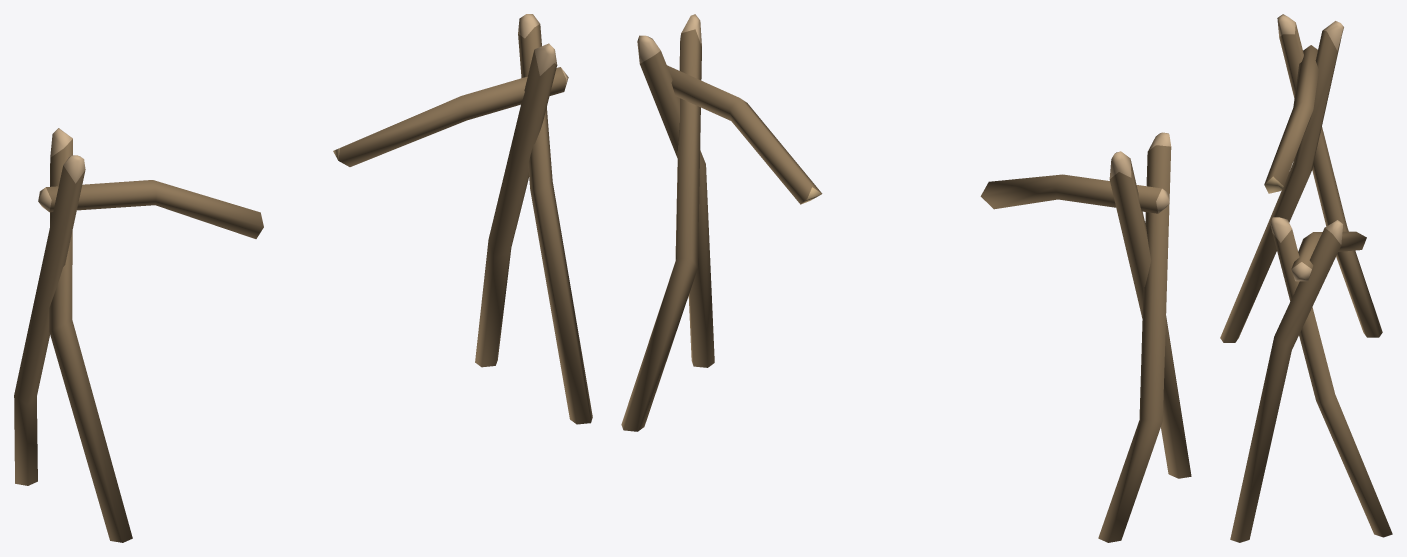
File: rpgpp_av_hanger_wood_02a.gltf
3 renders of one model, left to right at view 1: azimuth 30°, elevation 25°; view 2: azimuth 150°, elevation 25°; view 3: azimuth 270°, elevation 25°, orthographic. The views are drawn at different scales.
Visible parts, largest first — view 1: rpgpp_av_hanger_wood_02a; view 2: rpgpp_av_hanger_wood_02a; view 3: rpgpp_av_hanger_wood_02a.
Part boxes in pixels (x1=…): rpgpp_av_hanger_wood_02a: x1=14, y1=14, x2=592, y2=542; rpgpp_av_hanger_wood_02a: x1=621, y1=14, x2=1191, y2=542; rpgpp_av_hanger_wood_02a: x1=1220, y1=14, x2=1392, y2=542.
Size of the model in its own units: 0.0226 by 0.0148 by 0.00727.
Materials: 1 (1 with a texture image).
